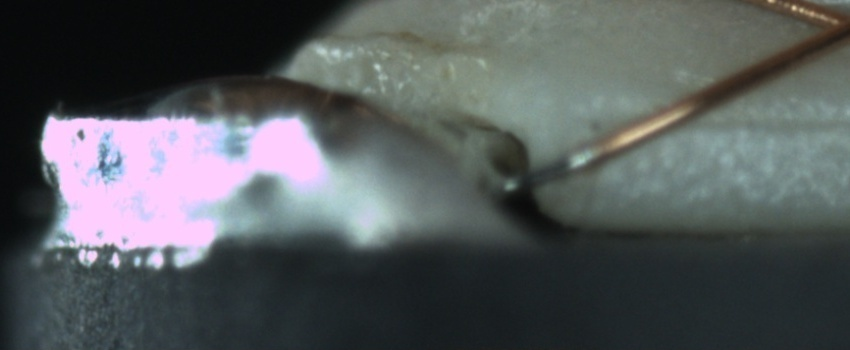CL: (779, 0, 849, 60)
DL: (675, 90, 849, 158)
TS: (500, 145, 596, 194)
TTCW: (501, 133, 624, 196)
